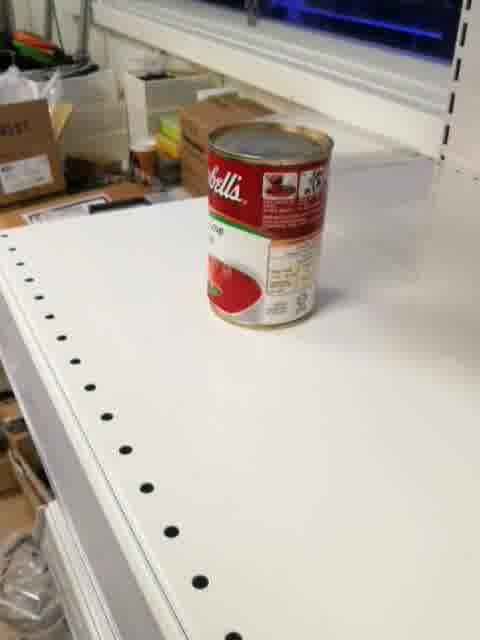tomatosoup: (204, 119, 335, 329)
